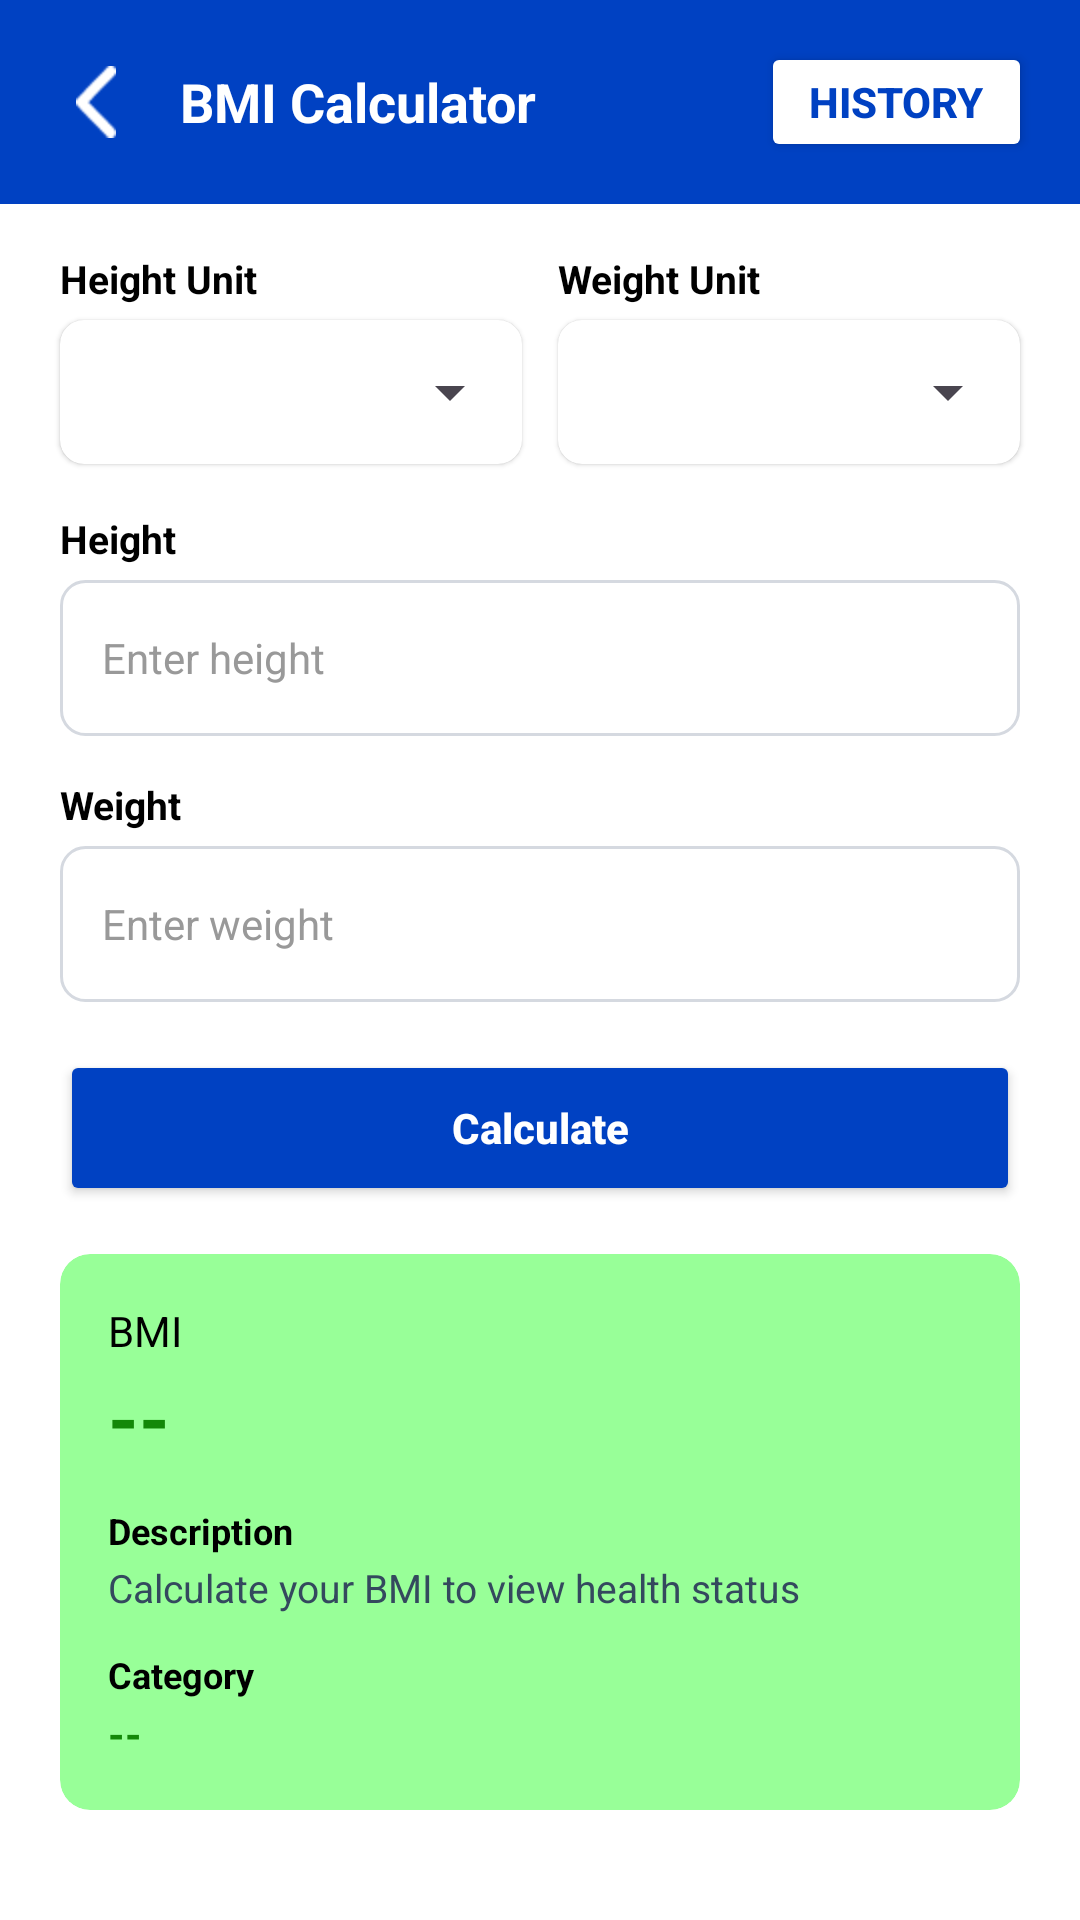

Screen size 1080px×1920px. Icon name, then its box in pixels as (x1, y1, x2, y2):
Back: (76, 66, 116, 138)
